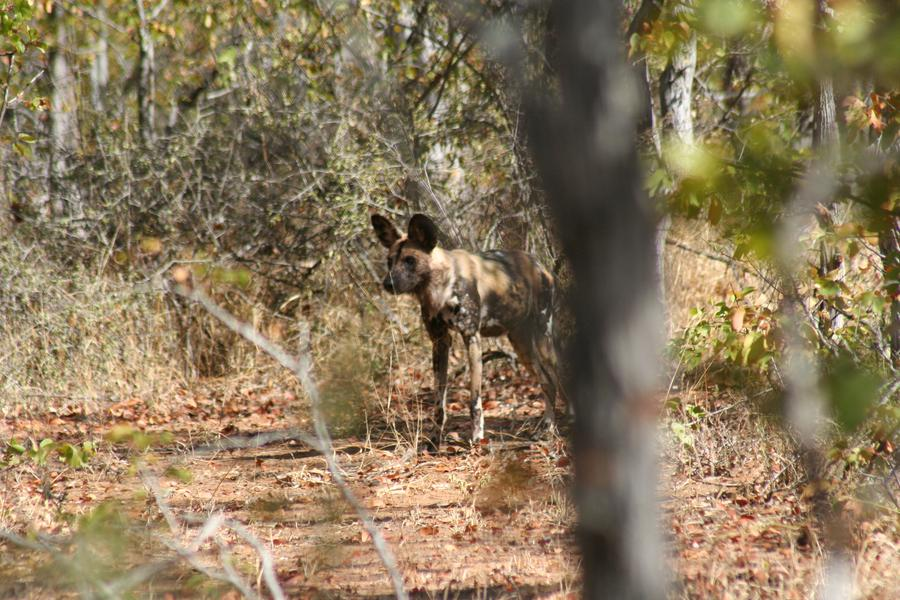wilddog: (381, 221, 550, 353)
